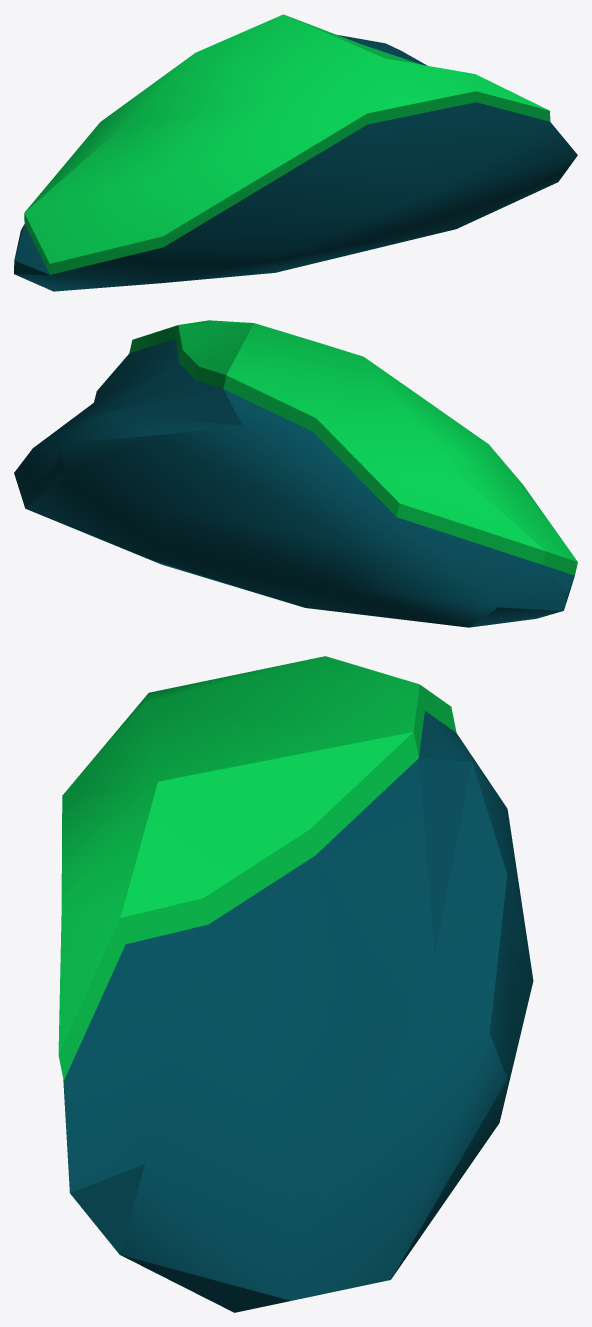
Rendered from Rock_C_02.fbx.
3 views of the same model, one above another, from view 1: azimuth 30°, elevation 25°; view 2: azimuth 150°, elevation 25°; view 3: azimuth 270°, elevation 25° (orthographic). The views are drawn at different scales.
Visible parts, largest first — view 1: Rock_C_02; view 2: Rock_C_02; view 3: Rock_C_02.
Boxes of the visible parts, x1,y1,x2,y2 form: Rock_C_02: (14,14,577,291); Rock_C_02: (14,320,577,627); Rock_C_02: (58,656,533,1312).
Bounding box in the file's own units: 285 × 103 × 111.
